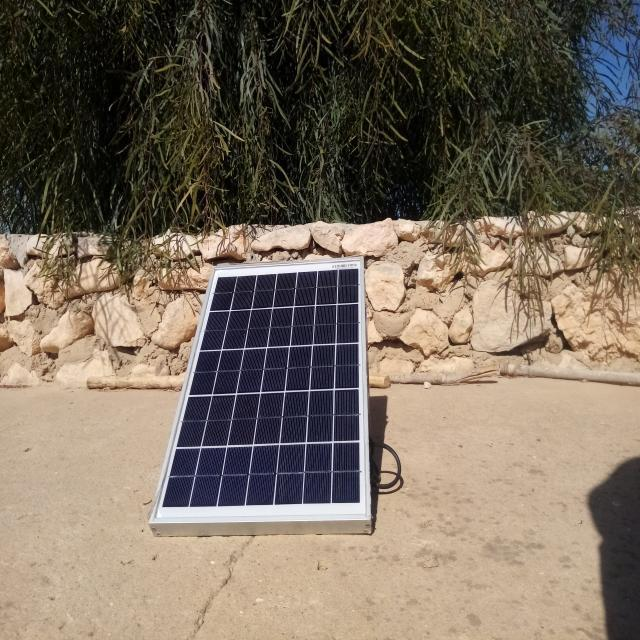Normal Solar Panel: (149, 256, 370, 524)
